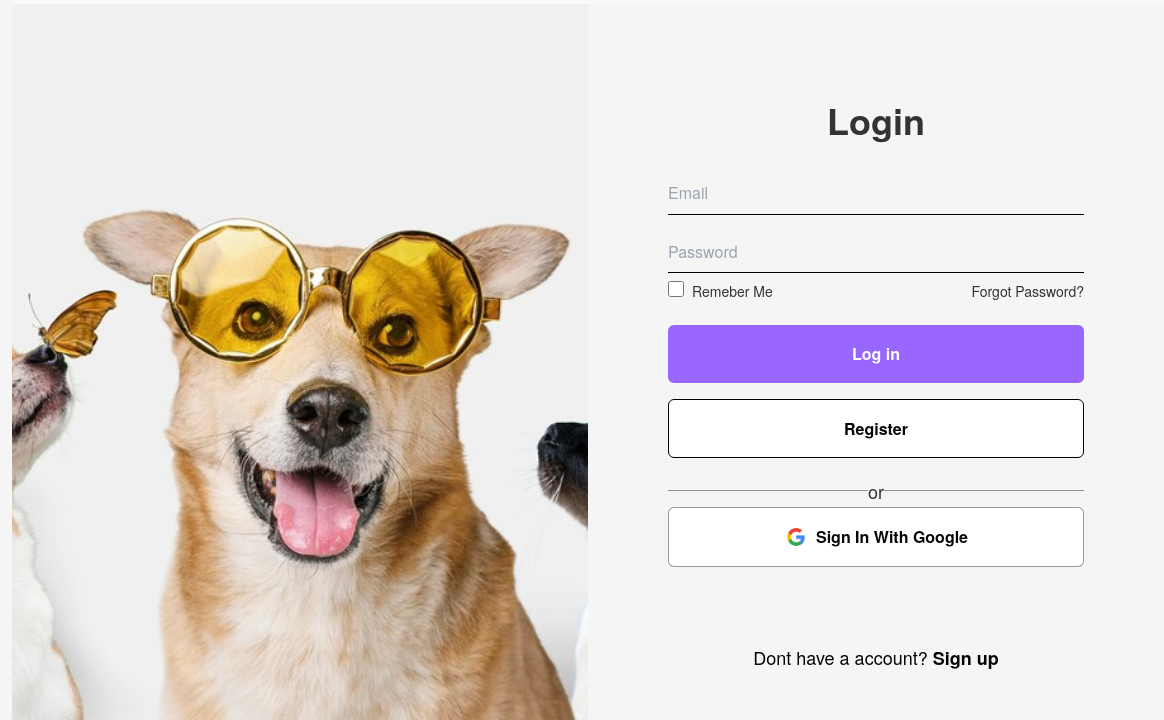
Test: LoginPage › should show error if password is too short
Type "test@example.com" into the field with placeholder "Email" at (876, 193), box [668,172,1084,215]
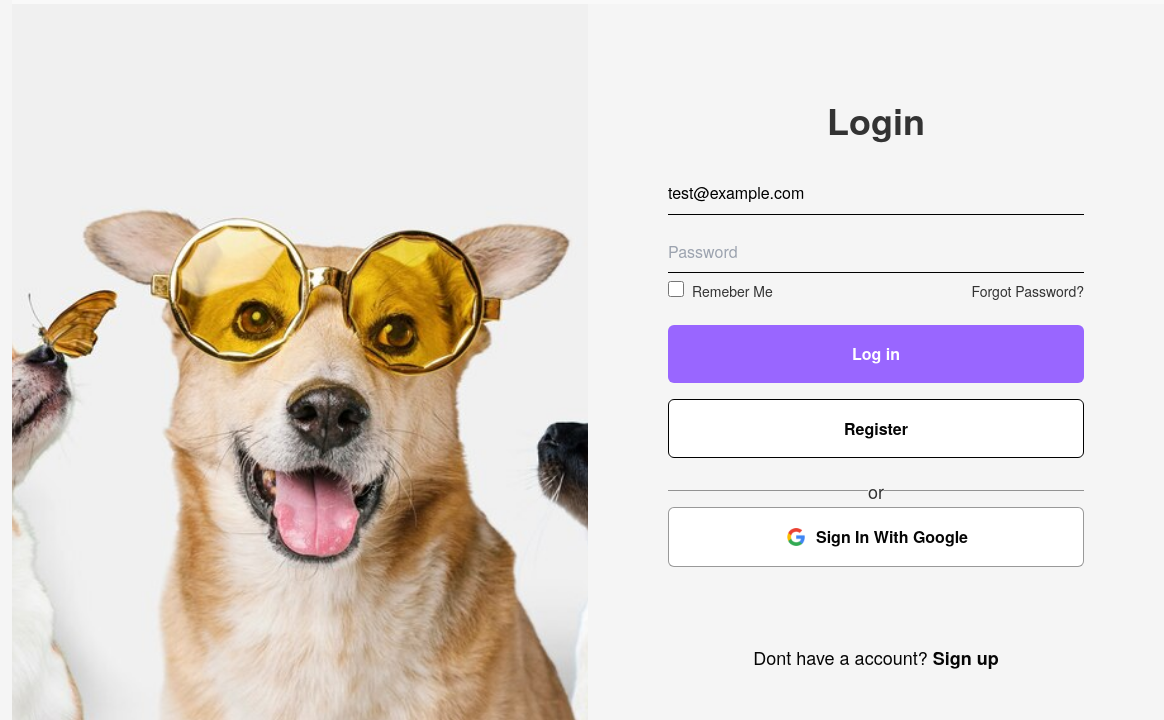
Type "short" into the password field with placeholder "Password" at (876, 252), box [668,231,1084,273]
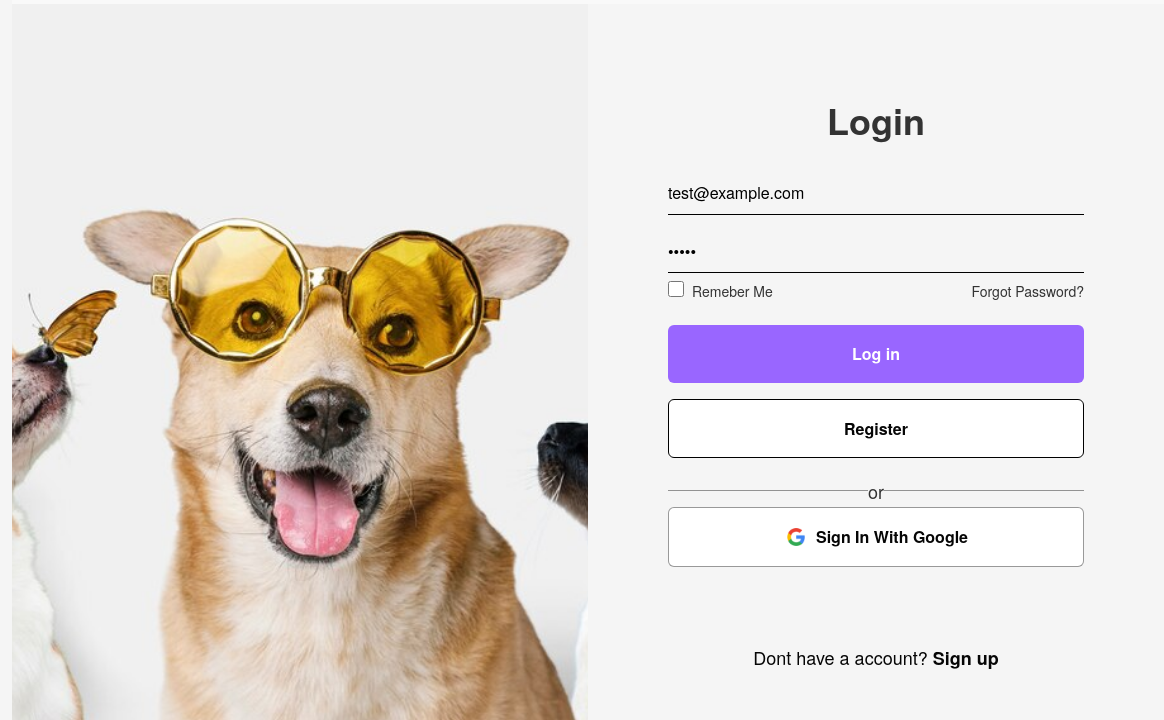
Click the button "Log in" at (876, 354), box [668,325,1084,383]
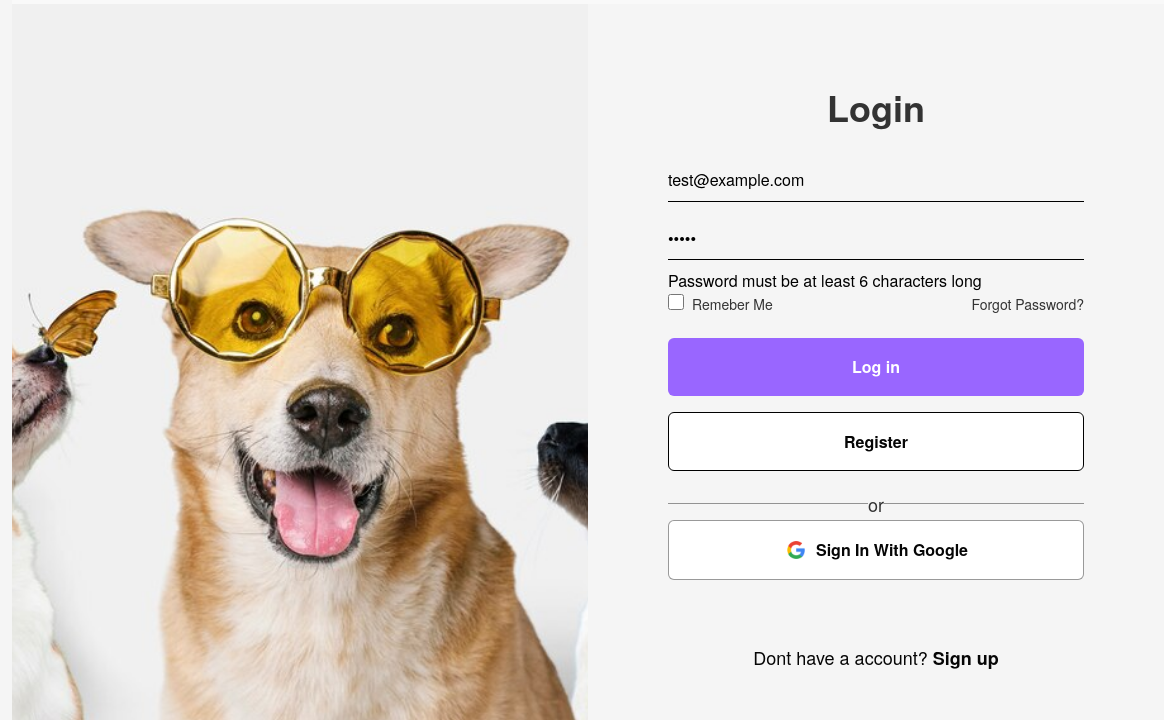
Result: the text "Password must be at least 6 characters long" is shown at [668,269,982,292]
